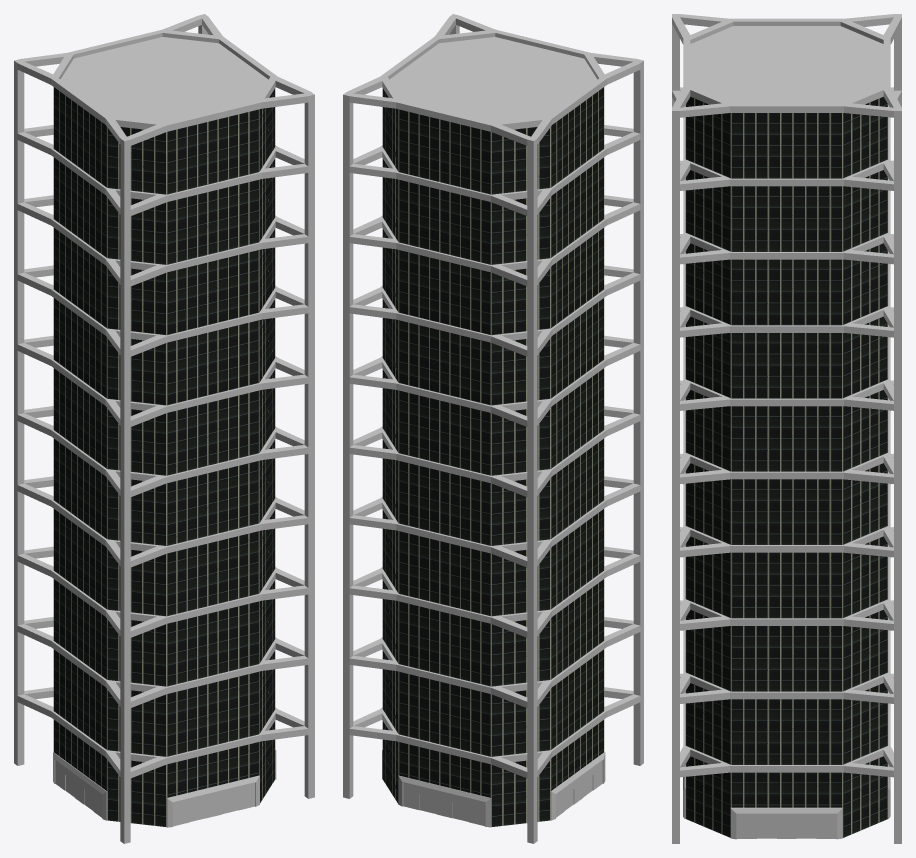
The picture shows the model from 3 angles, left to right: view 1: azimuth 30°, elevation 25°; view 2: azimuth 150°, elevation 25°; view 3: azimuth 270°, elevation 25°; orthographic projection. The views are drawn at different scales.
Parts seen in each view (by area): view 1: EC-044; view 2: EC-044; view 3: EC-044.
Boxes of the visible parts, box(x1,y1,x2,y2) form: EC-044: box(14, 14, 314, 843); EC-044: box(343, 14, 643, 843); EC-044: box(672, 14, 901, 843).
Size of what is drawn, in the model's own units: 31.25 by 110 by 31.25.
